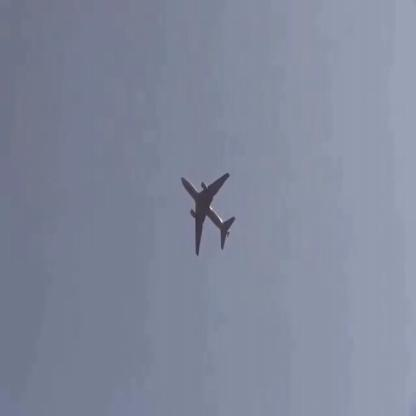CIV_Plane: (180, 172, 235, 255)
